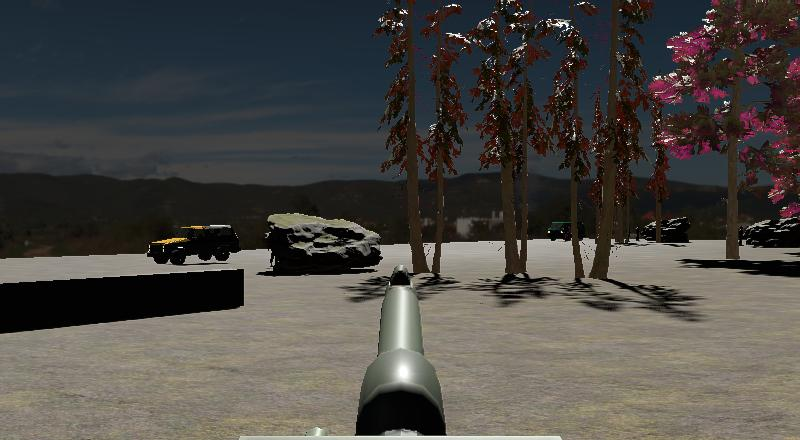car: (144, 220, 243, 267), (545, 219, 586, 242)
